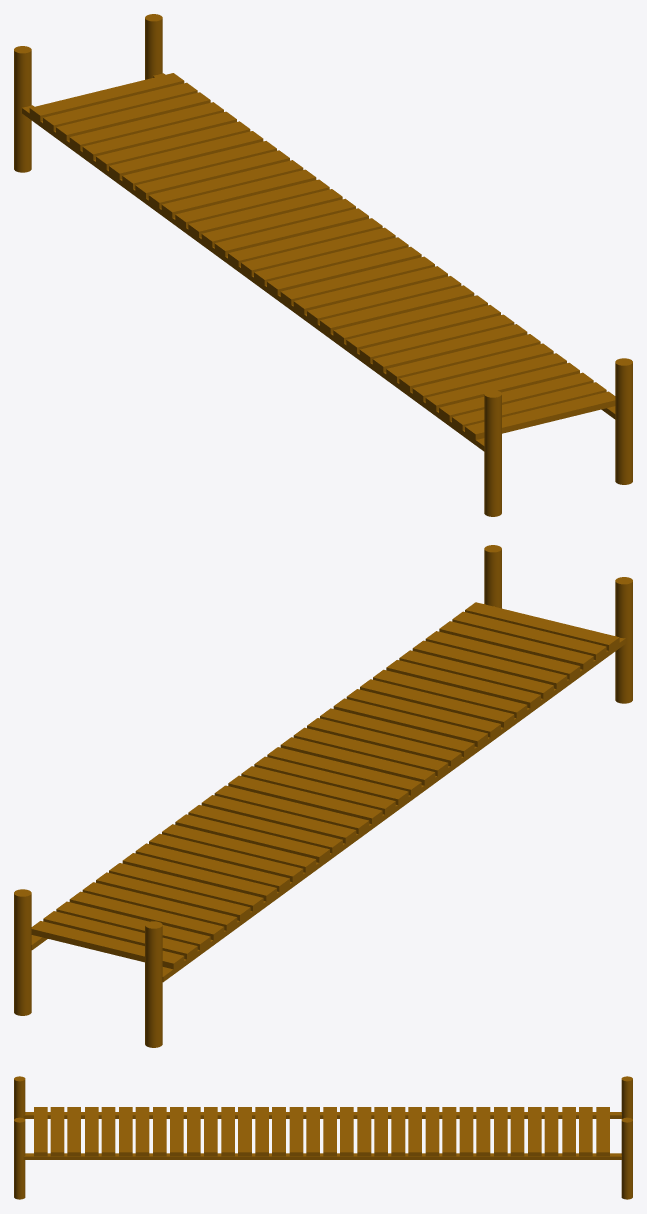
The model's file is Pont.fbx.
3 renders of one model, top to bottom at view 1: azimuth 30°, elevation 25°; view 2: azimuth 150°, elevation 25°; view 3: azimuth 270°, elevation 25°, orthographic. The views are drawn at different scales.
Parts seen in each view (by area): view 1: pCylinder2; view 2: pCylinder2; view 3: pCylinder2.
Boxes of the visible parts, x1,y1,x2,y2 form: pCylinder2: (14, 14, 632, 516); pCylinder2: (14, 545, 632, 1047); pCylinder2: (14, 1076, 632, 1199).
Bounding box in the file's own units: 8.82 × 6.86 × 49.99.
